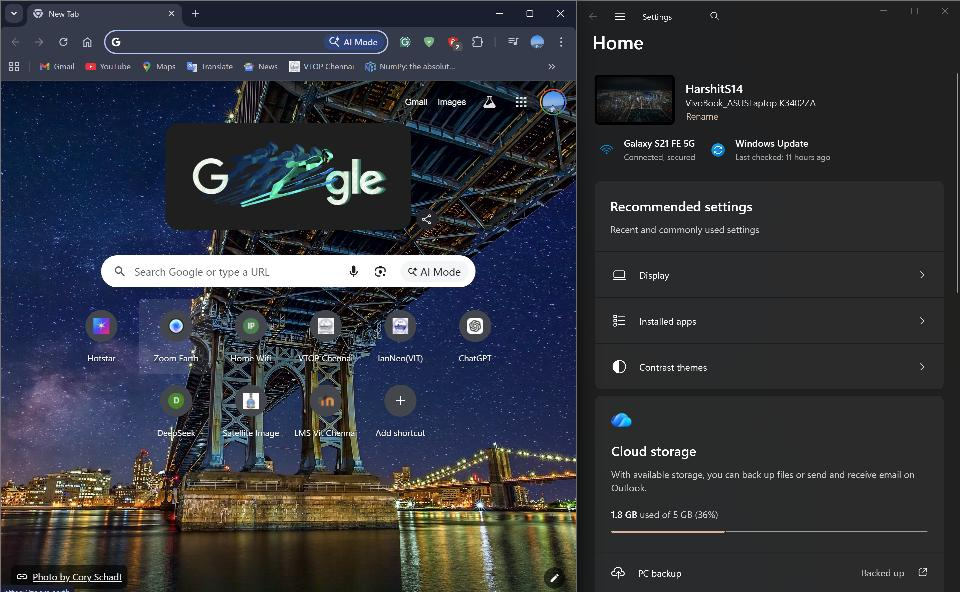close_button: (548, 0, 573, 27), (935, 1, 957, 24)
maximize_button: (518, 2, 542, 27), (903, 0, 927, 24)
minimize_button: (483, 1, 509, 25), (867, 1, 895, 23)
